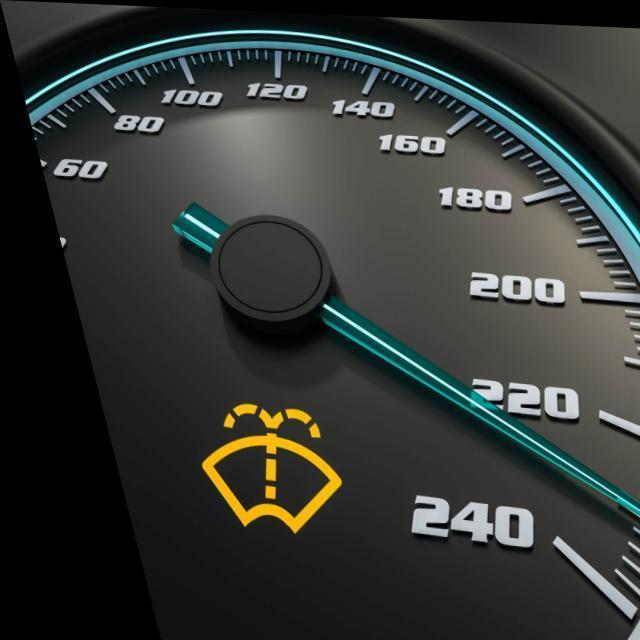Washer Fluid: (202, 401, 346, 534)
